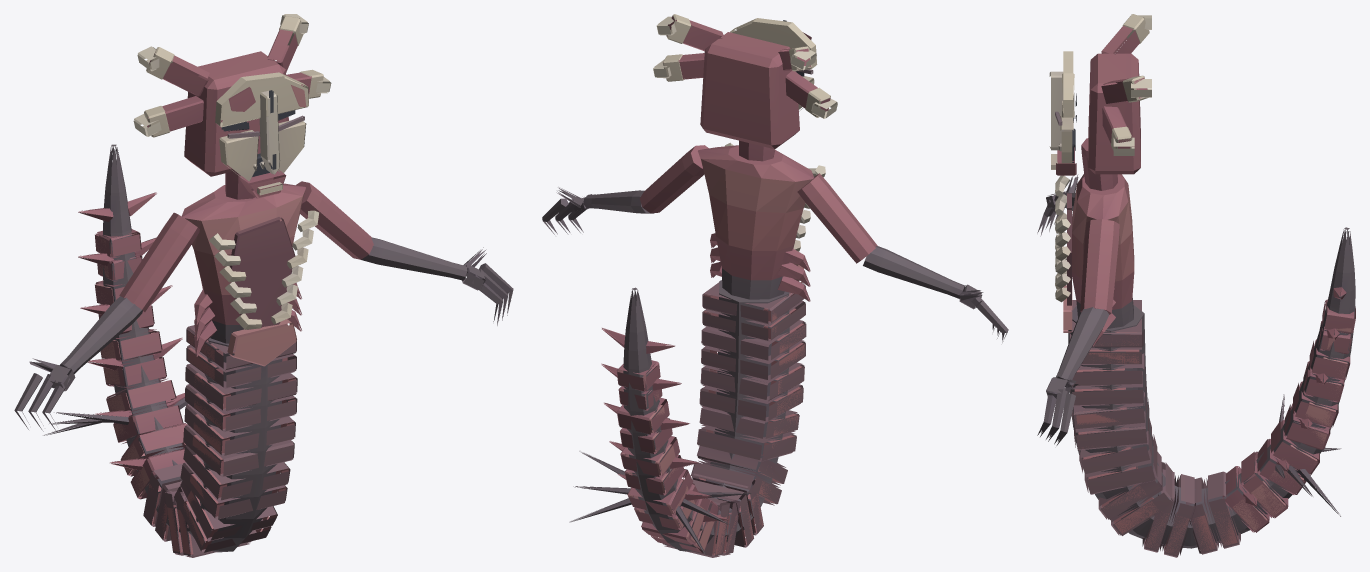
The model's file is Dredge.glb.
3 renders of one model, left to right at view 1: azimuth 30°, elevation 25°; view 2: azimuth 150°, elevation 25°; view 3: azimuth 270°, elevation 25°, orthographic. The views are drawn at different scales.
Visible parts, largest first — view 1: Body, Head, ArmR, ArmL; view 2: Body, Head, ArmR, ArmL; view 3: Body, Head, ArmL, ArmR.
Part boxes in pixels (x1=…): Body: x1=43, y1=144, x2=318, y2=557; Head: x1=133, y1=14, x2=331, y2=199; ArmR: x1=14, y1=212, x2=199, y2=431; ArmL: x1=296, y1=181, x2=513, y2=325; Body: x1=569, y1=142, x2=825, y2=557; Head: x1=653, y1=14, x2=837, y2=161; ArmR: x1=797, y1=173, x2=1008, y2=342; ArmL: x1=542, y1=145, x2=708, y2=234; Body: x1=1055, y1=174, x2=1355, y2=557; Head: x1=1049, y1=14, x2=1151, y2=190; ArmL: x1=1037, y1=219, x2=1119, y2=445; ArmR: x1=1037, y1=174, x2=1078, y2=236.
Bounding box in the file's own units: 6.83 × 6.96 × 4.02.
